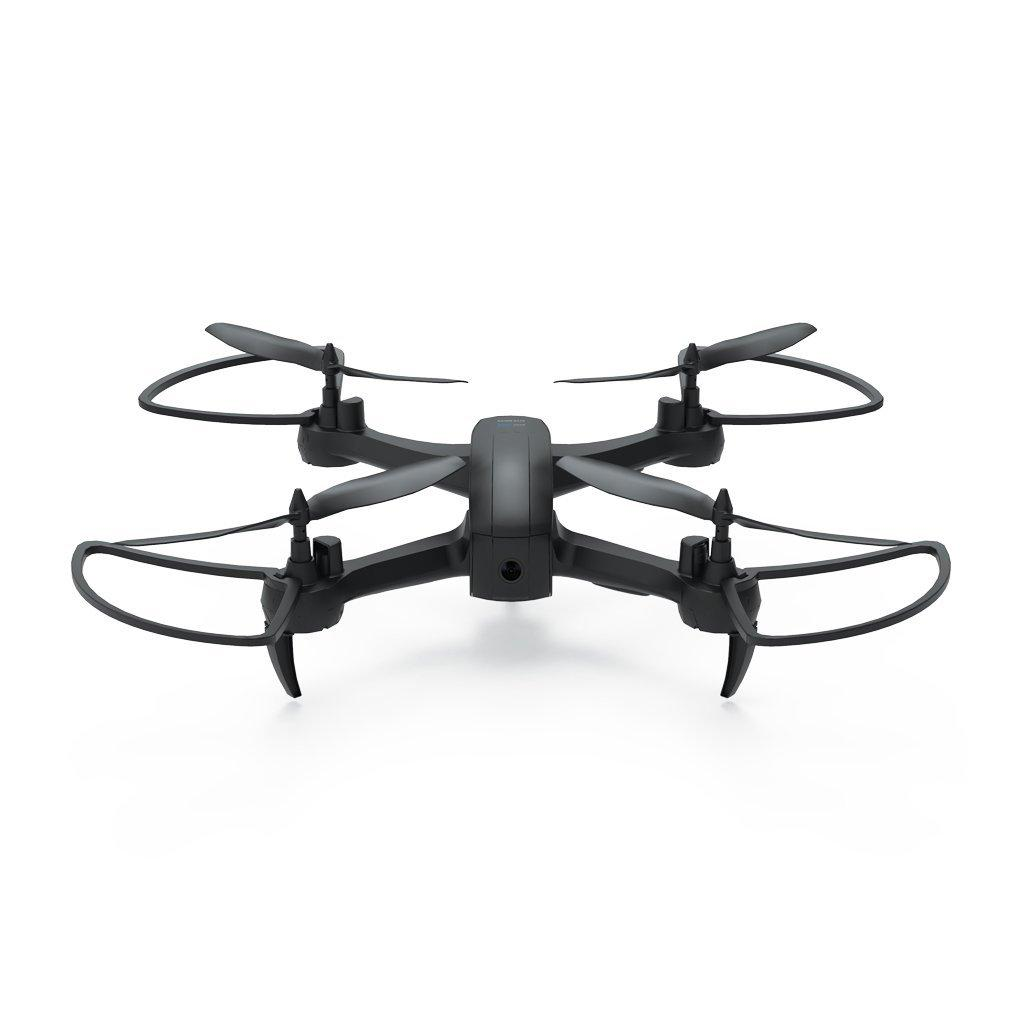drone: (80, 313, 989, 706)
